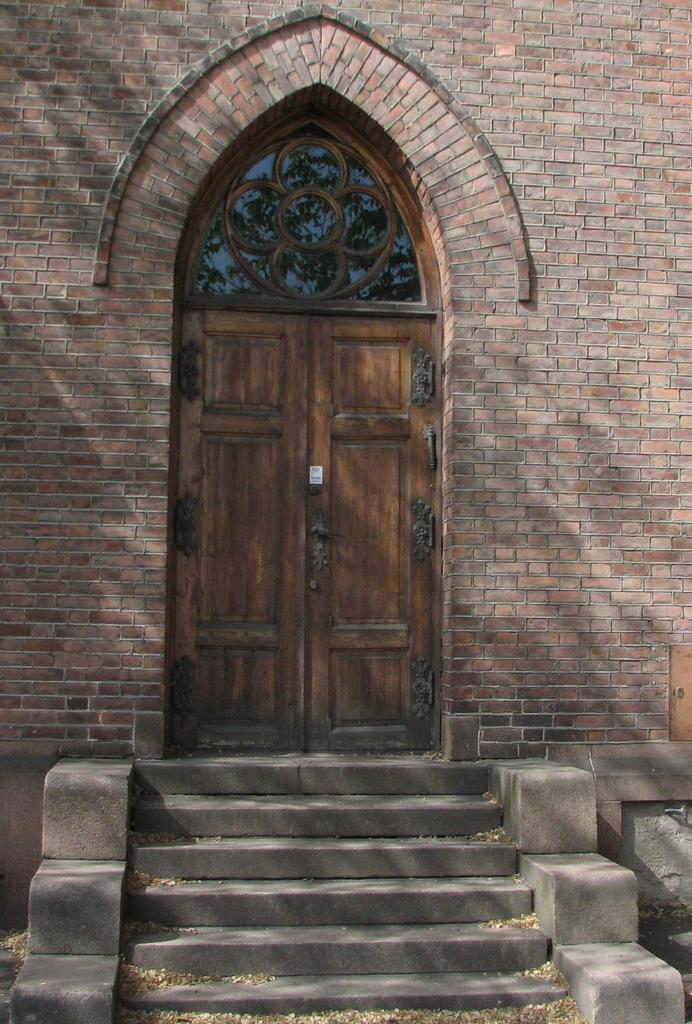handle: (311, 526, 330, 550)
